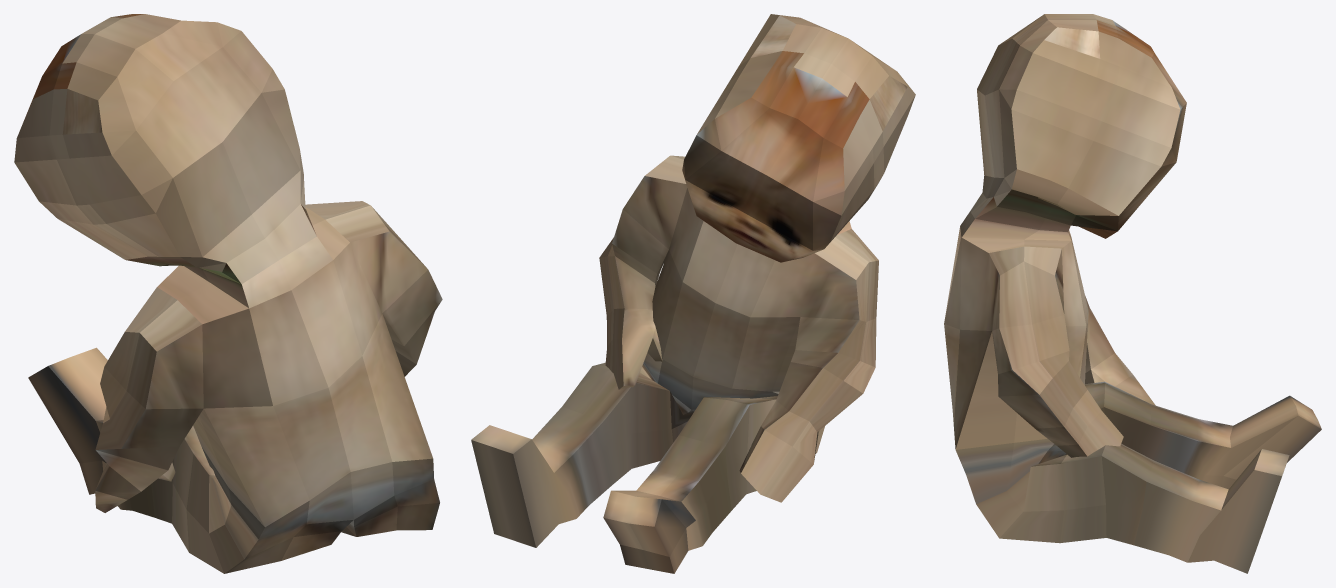
Rendered from bebe_sofa.fbx.
3 renders of one model, left to right at view 1: azimuth 30°, elevation 25°; view 2: azimuth 150°, elevation 25°; view 3: azimuth 270°, elevation 25°, orthographic. The views are drawn at different scales.
Visible parts, largest first — view 1: Cube; view 2: Cube; view 3: Cube.
Part boxes in pixels (bbox=[...]): Cube: bbox=[14, 14, 442, 573]; Cube: bbox=[471, 14, 915, 573]; Cube: bbox=[944, 14, 1321, 573].
Bounding box in the file's own units: 81.05 × 125 × 94.01.
